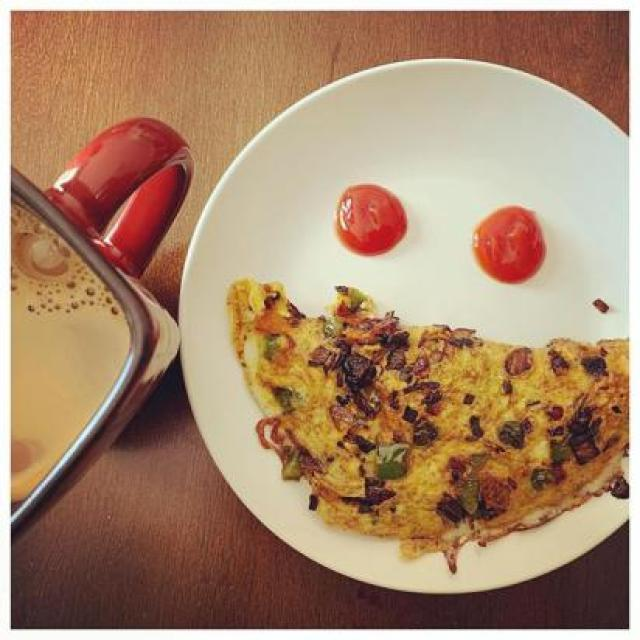omelette: (226, 298, 638, 564)
